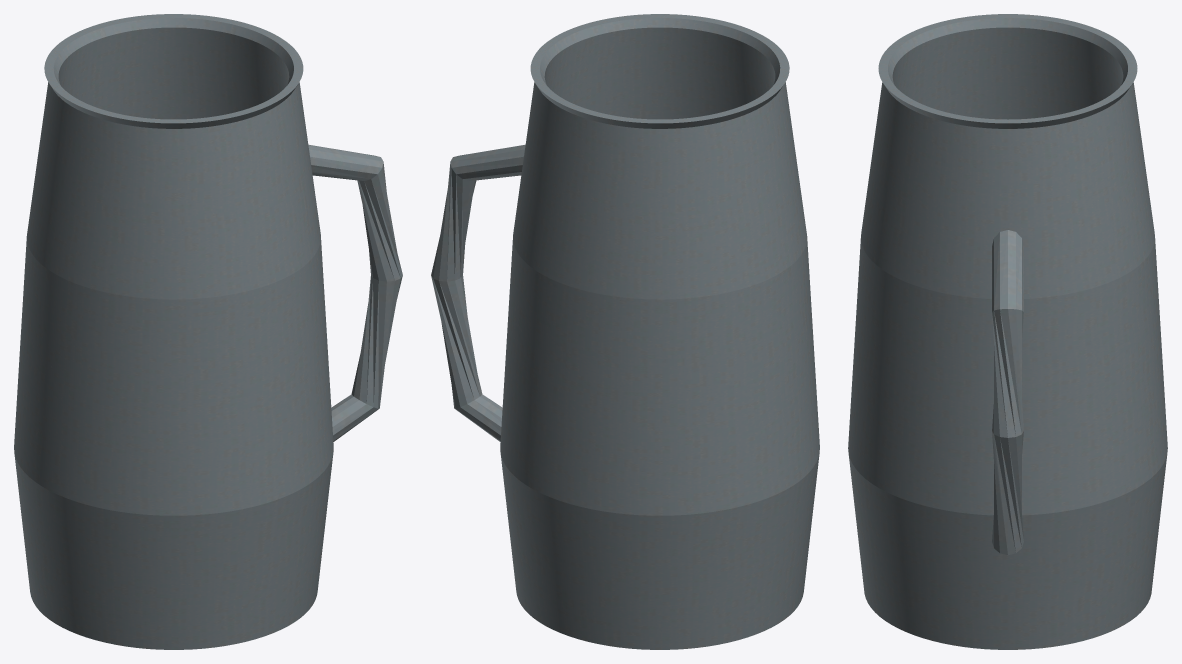
Rendered from misc_com_pitcher_metal_01.dae.
The picture shows the model from 3 angles, left to right: view 1: azimuth 30°, elevation 25°; view 2: azimuth 150°, elevation 25°; view 3: azimuth 270°, elevation 25°; orthographic projection.
Parts seen in each view (by area): view 1: silver; view 2: silver; view 3: silver.
Boxes of the visible parts, x1,y1,x2,y2 form: silver: (14, 14, 402, 649); silver: (431, 14, 819, 649); silver: (848, 14, 1167, 649).
Size of the model in its own units: 20.26 by 15.36 by 27.93.
